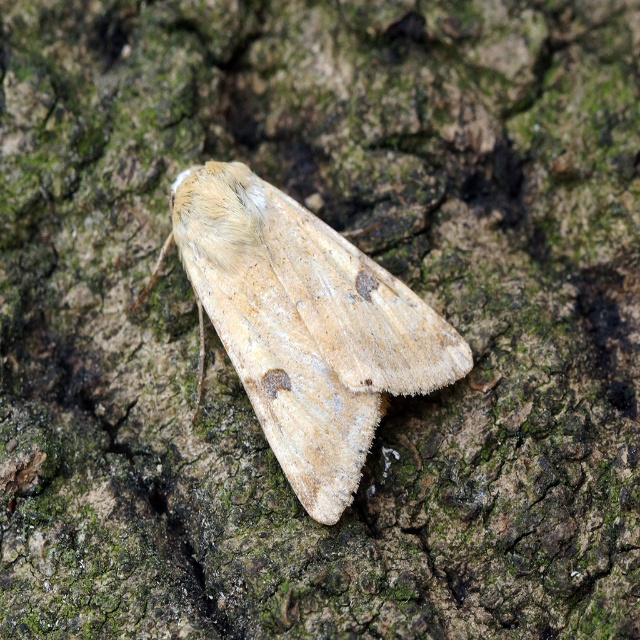Moths and butterflies: (129, 160, 475, 525)
